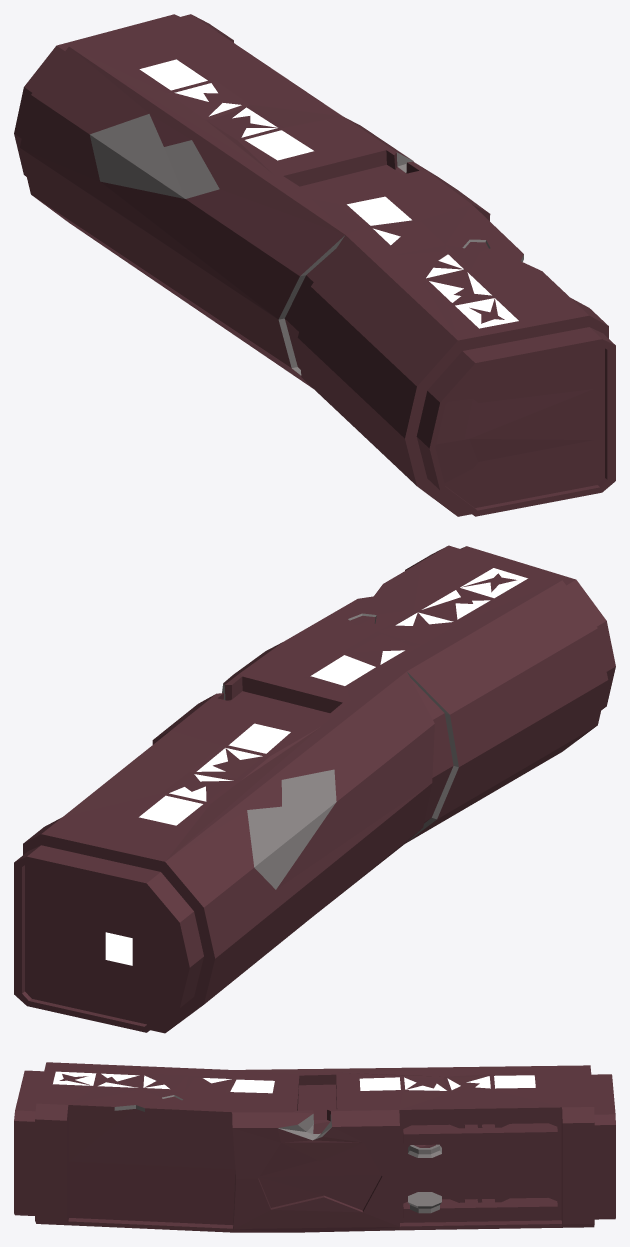
Rendered from apocalypse-train-speed-wagon-apocalypse-c.glb.
3 views of the same model, one above another, from view 1: azimuth 30°, elevation 25°; view 2: azimuth 150°, elevation 25°; view 3: azimuth 270°, elevation 25° (orthographic). The views are drawn at different scales.
Parts seen in each view (by area): view 1: train-speed-wagon-apocalypse-c; view 2: train-speed-wagon-apocalypse-c; view 3: train-speed-wagon-apocalypse-c.
Part boxes in pixels (left/top/right/bottom): train-speed-wagon-apocalypse-c: left=14, top=14, right=615, bottom=516; train-speed-wagon-apocalypse-c: left=14, top=545, right=615, bottom=1033; train-speed-wagon-apocalypse-c: left=14, top=1062, right=615, bottom=1232.
Bounding box in the file's own units: 4.23 × 3.1 × 14.05.
